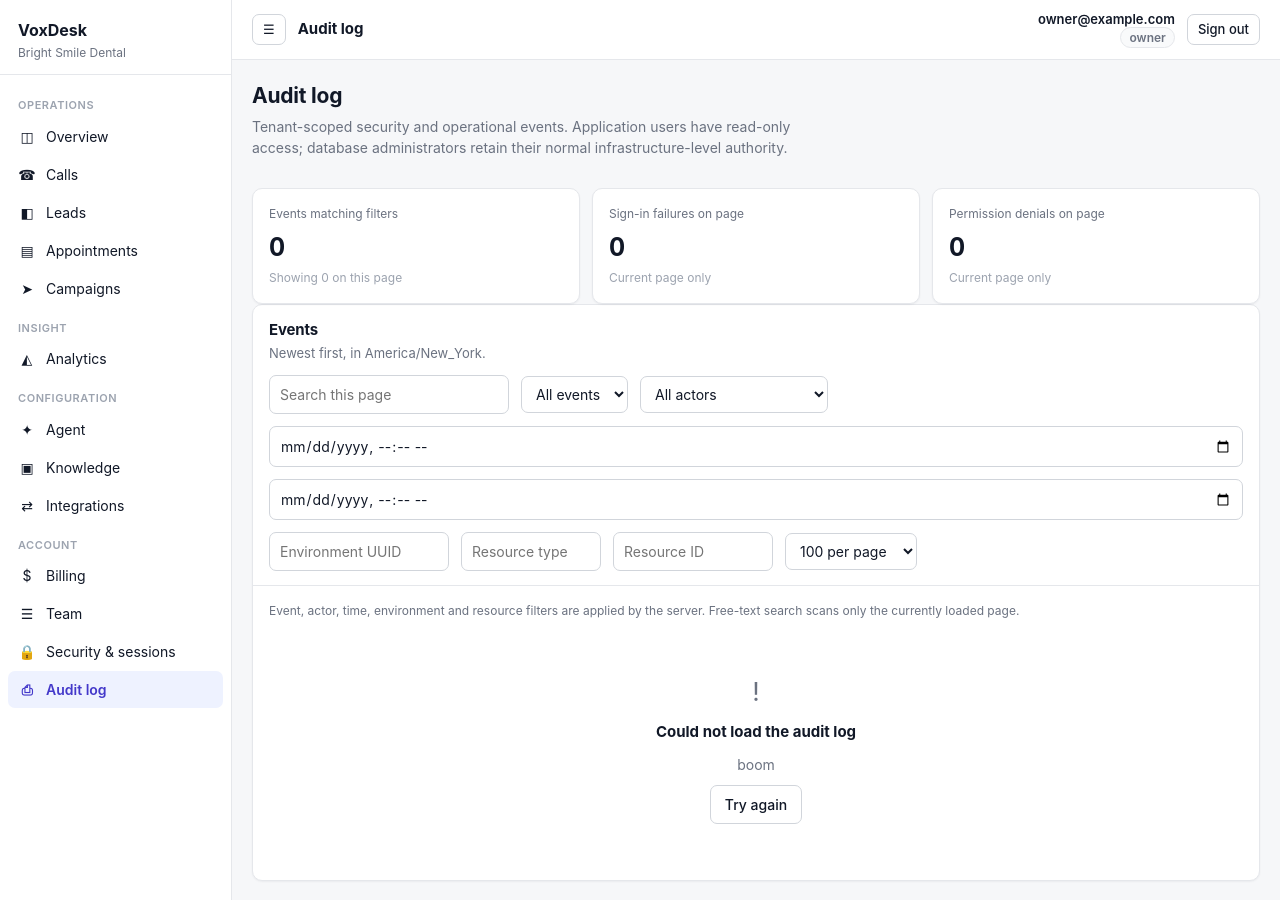
Test: states › shows an error state with a working retry
expect the text "Could not load the audit log" is shown: met, box x1=656 y1=721 x2=856 y2=744
What coordinates should you click on to do the following:
click the button "Try again"
I would click on:
 (756, 804)
Its box is x1=710 y1=784 x2=802 y2=824.
(page scrolled)
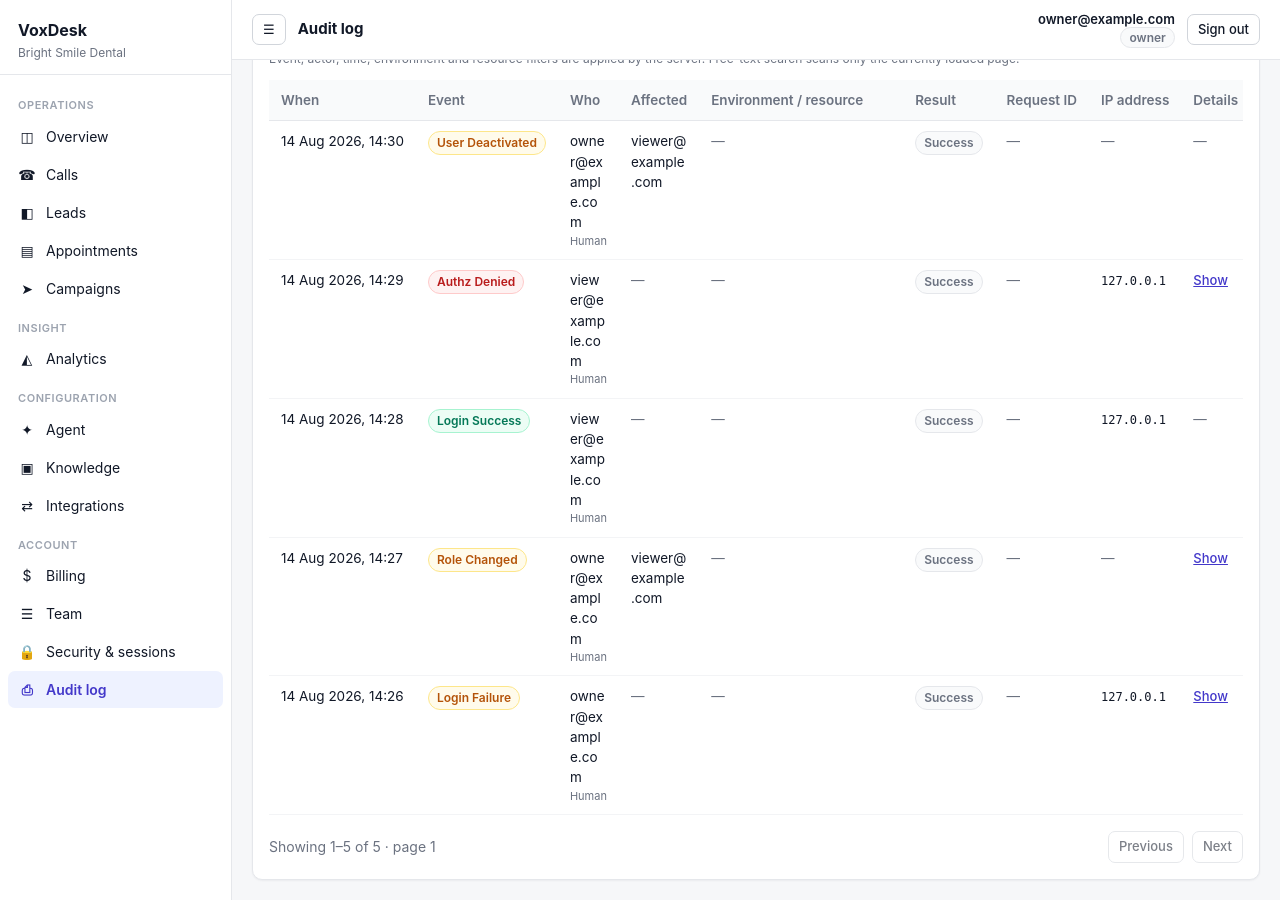
expect the text "Role Changed" is shown: met, box x1=428 y1=548 x2=527 y2=572
